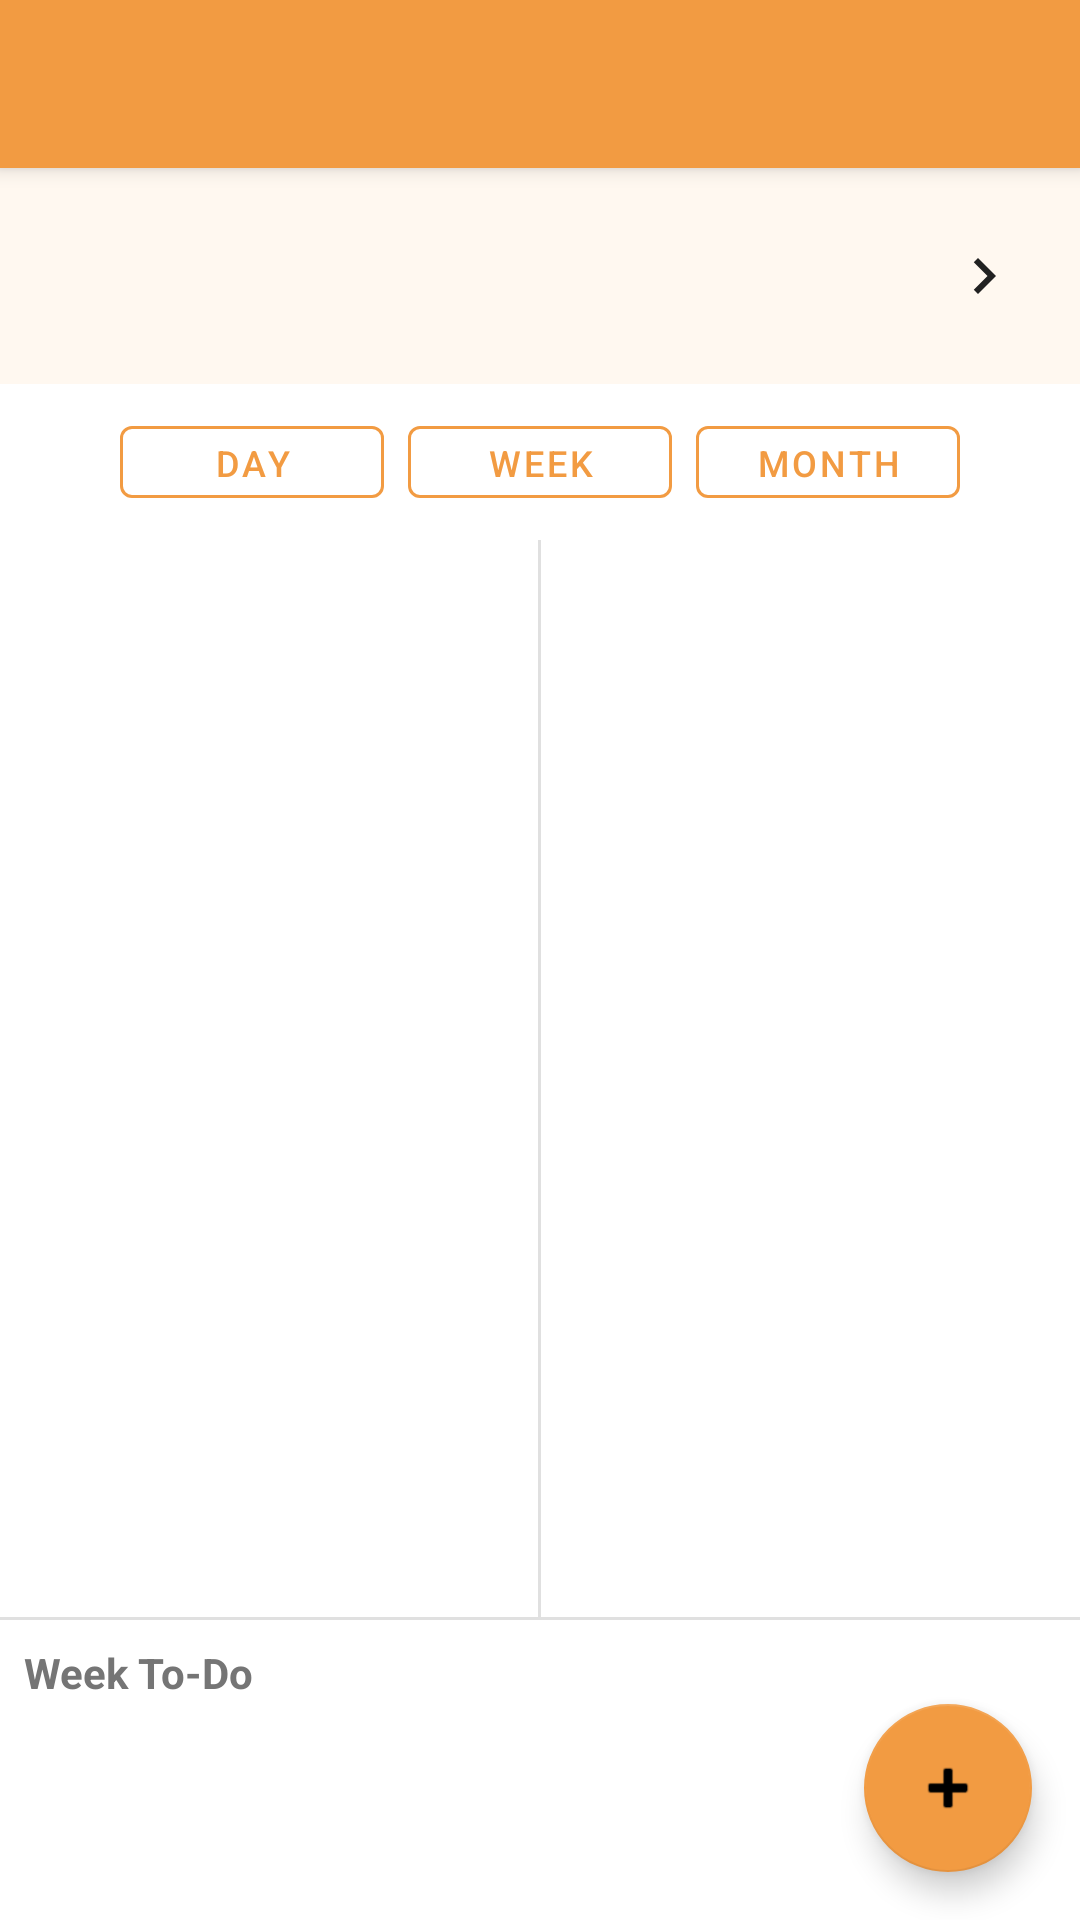

Where to tap for icons on this 1080w x 1920h app screen, as (x,y):
add: (948,1788)
Next: (985,276)
